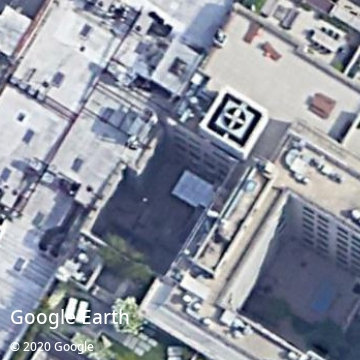Vent: (224, 108, 246, 131)
